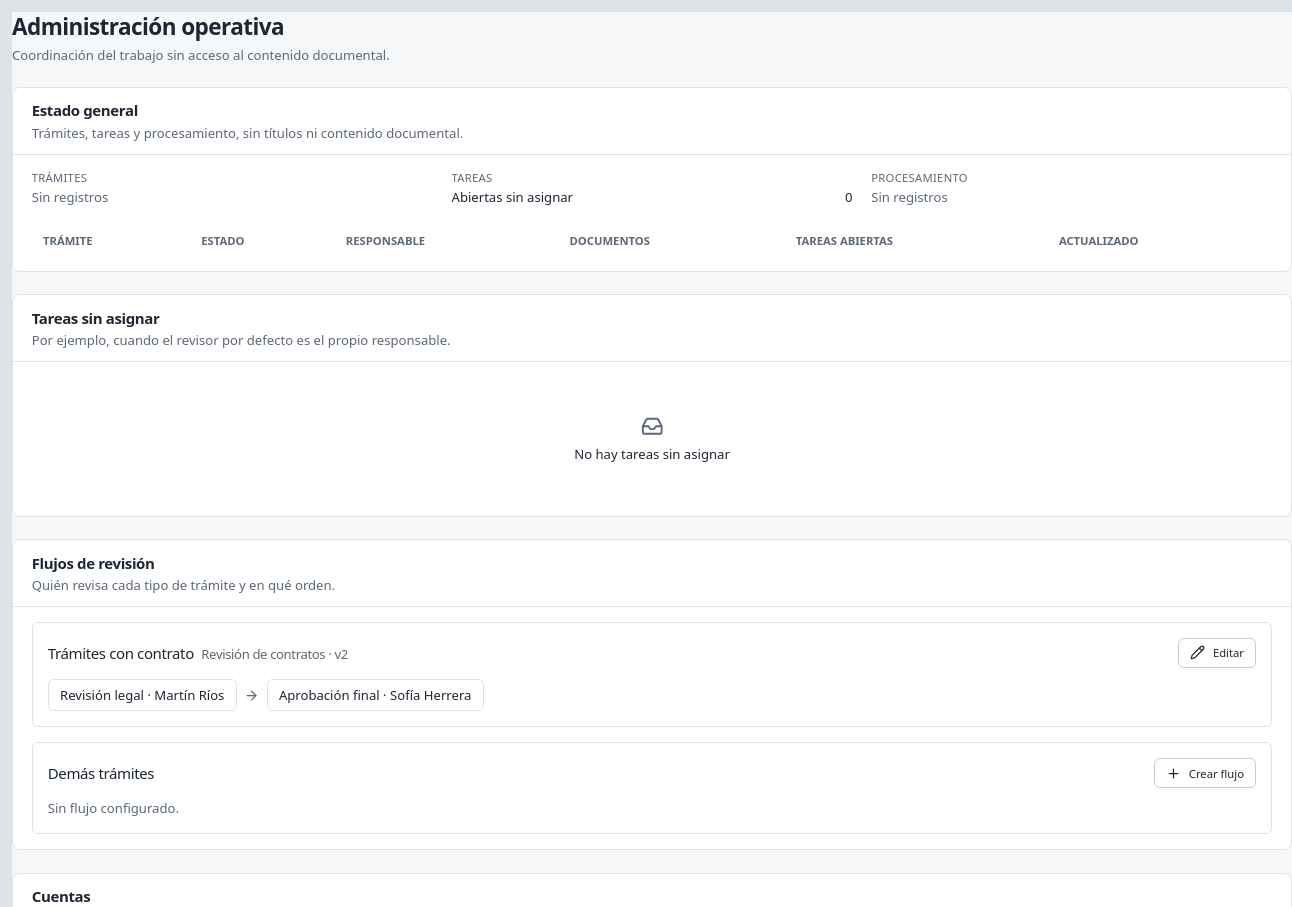
Test case: flujos de revisión en administración › edita el flujo vigente como versión nueva, con los pasos reordenados
The width and height of the screenshot is (1292, 907).
Later steps or results of the test are not shown.
Click the button "Editar". click: (1217, 653)
box: x1=1178 y1=638 x2=1256 y2=668
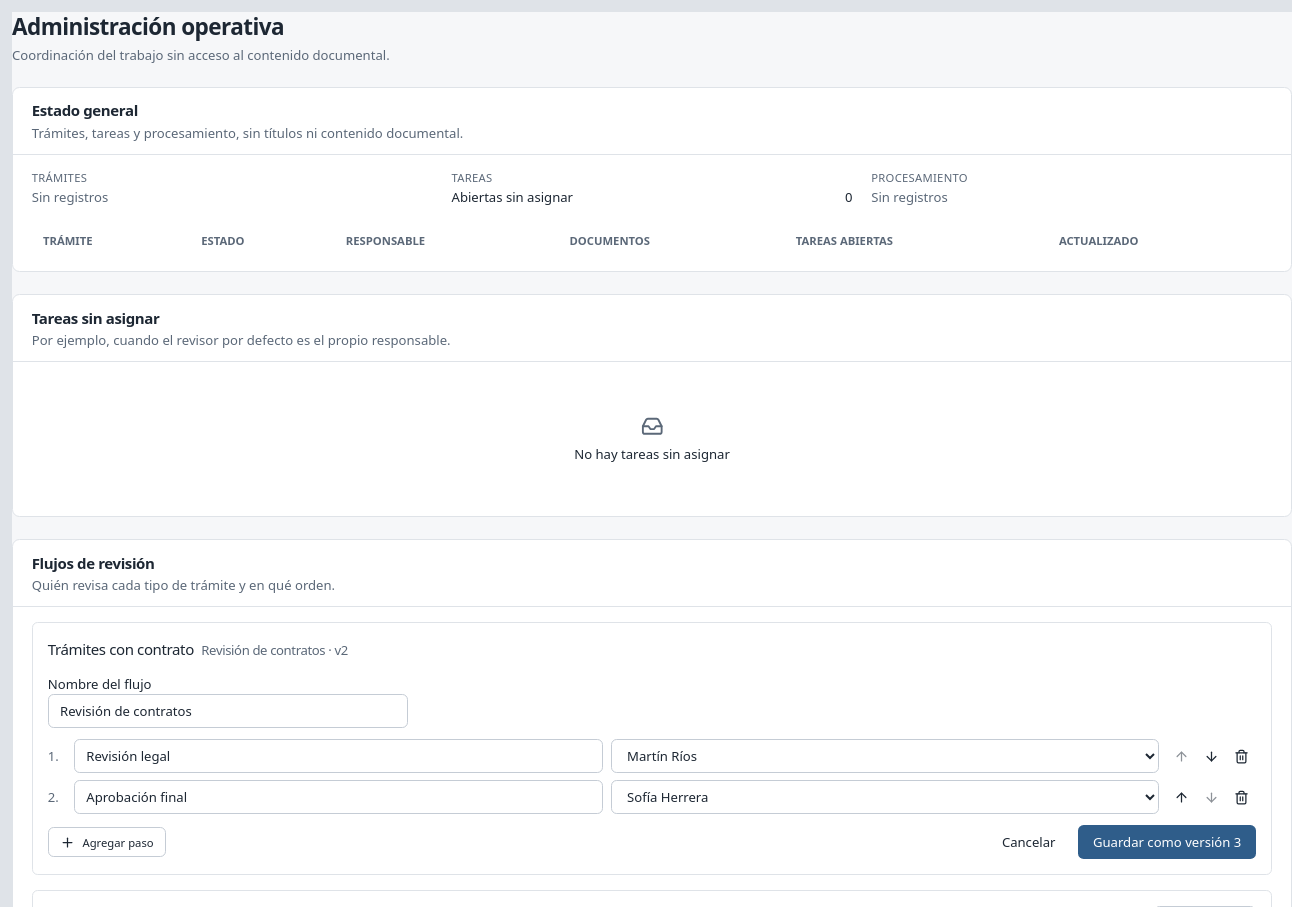
Now the field labelled "Nombre del flujo" holds "Revisión de contratos", box x1=48 y1=694 x2=408 y2=728
Click the button named "Bajar el paso 1". click: (1211, 756)
box: x1=1196 y1=741 x2=1226 y2=771
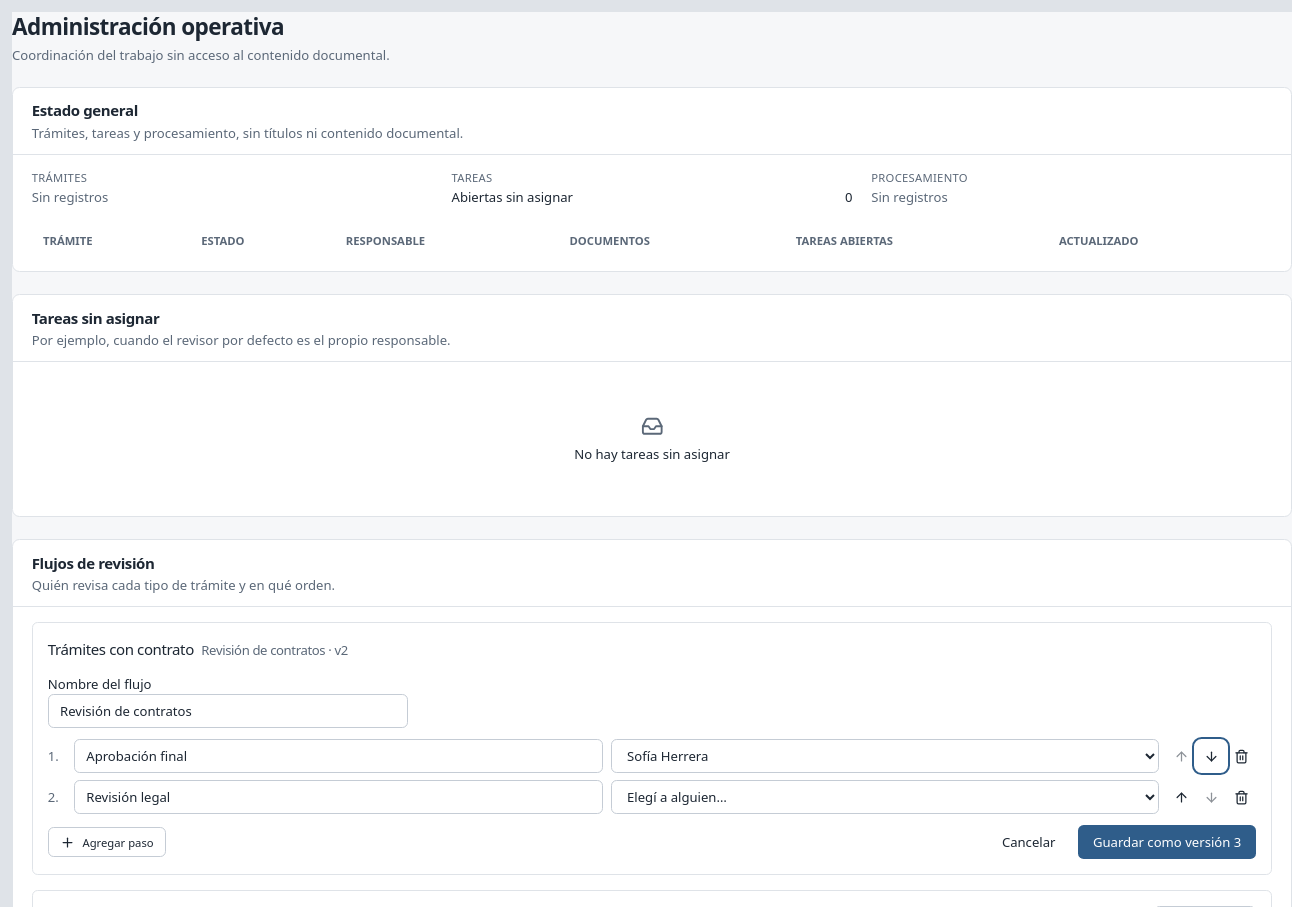
Now the dropdown named "Quién resuelve el paso 2" shows "Elegí a alguien…", box x1=611 y1=780 x2=1159 y2=814
